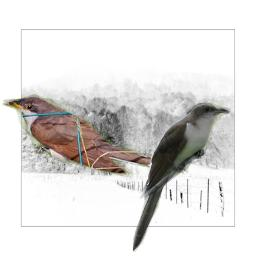Cuckoo: (2, 92, 189, 183), (128, 101, 231, 254)
